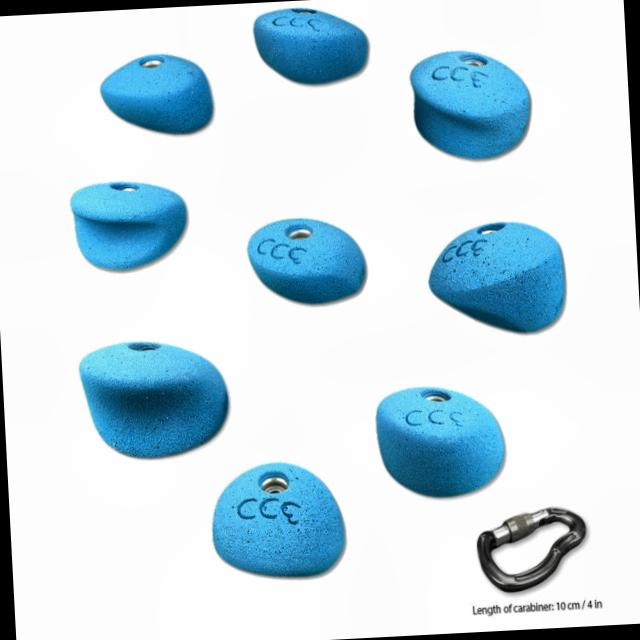Hold: (78, 338, 232, 459), (208, 459, 353, 584), (424, 218, 570, 340), (376, 386, 508, 504), (408, 46, 535, 162), (243, 212, 368, 310), (68, 176, 192, 274), (94, 49, 217, 142), (252, 3, 370, 88)
